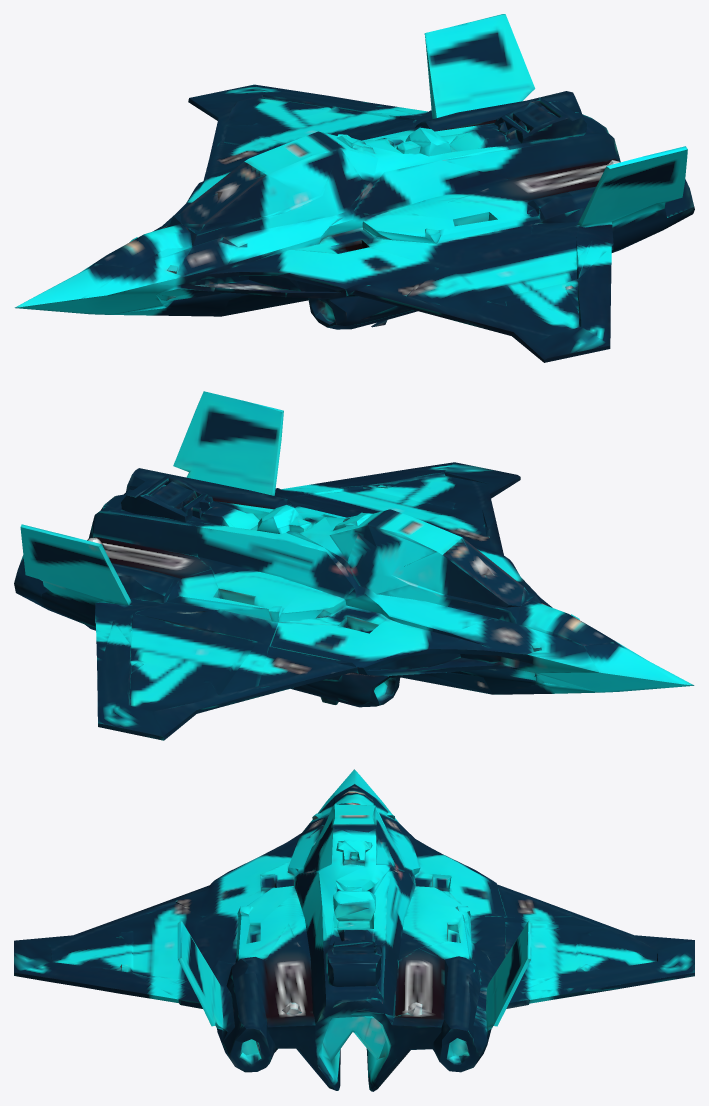
The model's file is ship_striker.glb.
3 renders of one model, top to bottom at view 1: azimuth 30°, elevation 25°; view 2: azimuth 150°, elevation 25°; view 3: azimuth 270°, elevation 25°, orthographic. The views are drawn at different scales.
Size of the model in its own units: 1.9 by 0.4525 by 1.9.
1 material, 1 textured.
